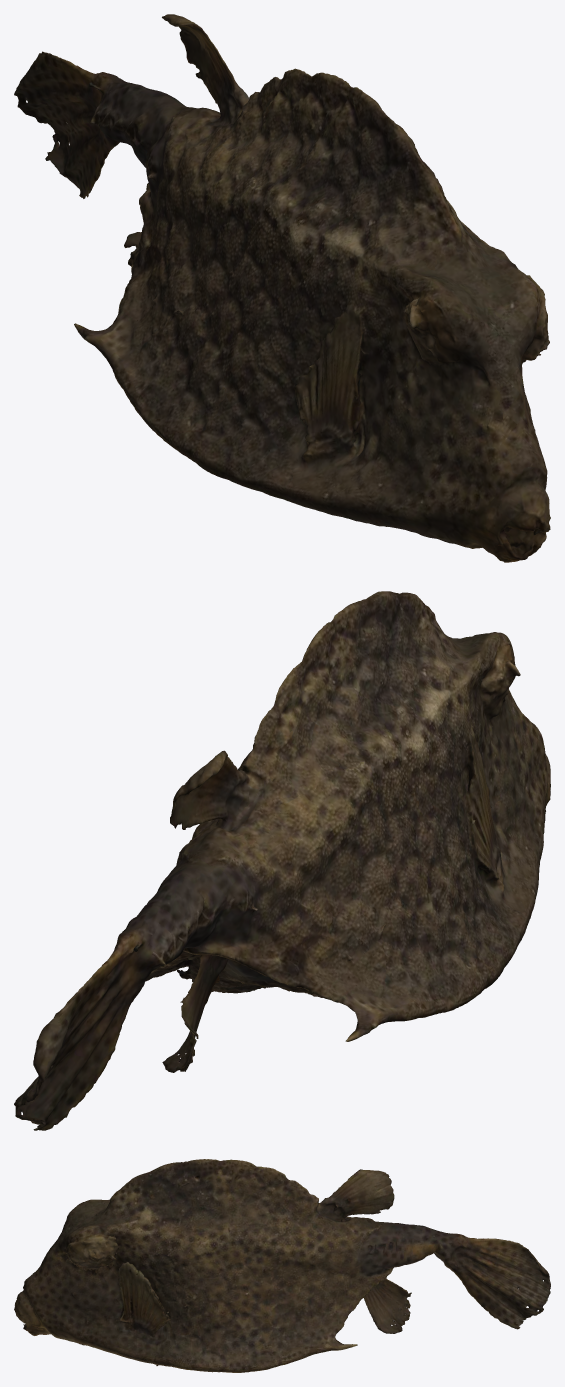
3 renders of one model, top to bottom at view 1: azimuth 30°, elevation 25°; view 2: azimuth 150°, elevation 25°; view 3: azimuth 270°, elevation 25°, orthographic. The views are drawn at different scales.
Parts seen in each view (by area): view 1: tamanho; view 2: tamanho; view 3: tamanho.
Boxes of the visible parts, x1,y1,x2,y2 form: tamanho: (14,14,550,562); tamanho: (14,591,550,1130); tamanho: (14,1159,550,1372).
Bounding box in the file's own units: 2582 × 3244 × 8193.
1 material, 1 textured.
